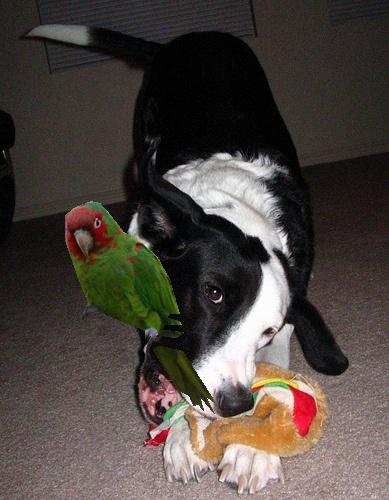tampered: (66, 202, 216, 415)
